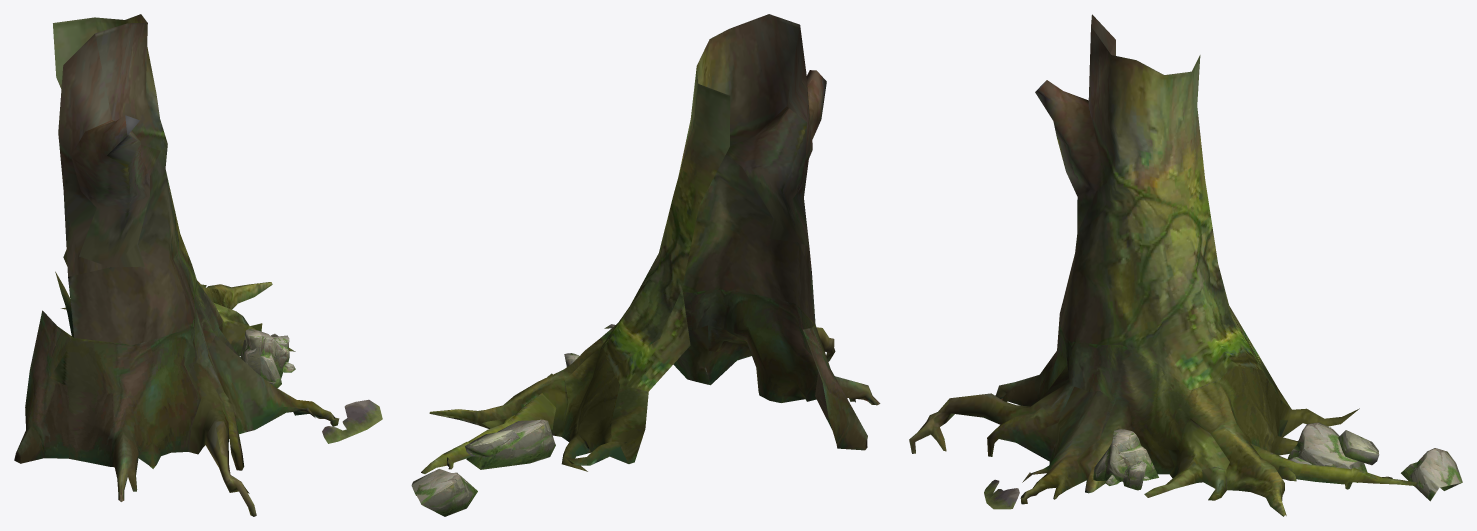
The model's file is shugan_02.FBX.
The picture shows the model from 3 angles, left to right: view 1: azimuth 30°, elevation 25°; view 2: azimuth 150°, elevation 25°; view 3: azimuth 270°, elevation 25°; orthographic projection. The views are drawn at different scales.
Visible parts, largest first — view 1: shugan_02; view 2: shugan_02; view 3: shugan_02.
Part boxes in pixels (x1,y1,x2,y2): shugan_02: (14,14,382,516); shugan_02: (411,14,880,516); shugan_02: (909,14,1462,516).
Size of the model in its own units: 720 by 845 by 1031.
